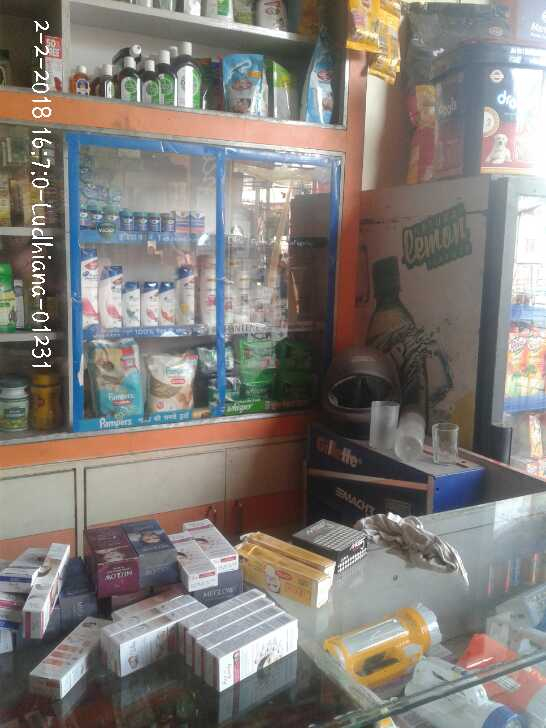vicks: (73, 153, 205, 239)
